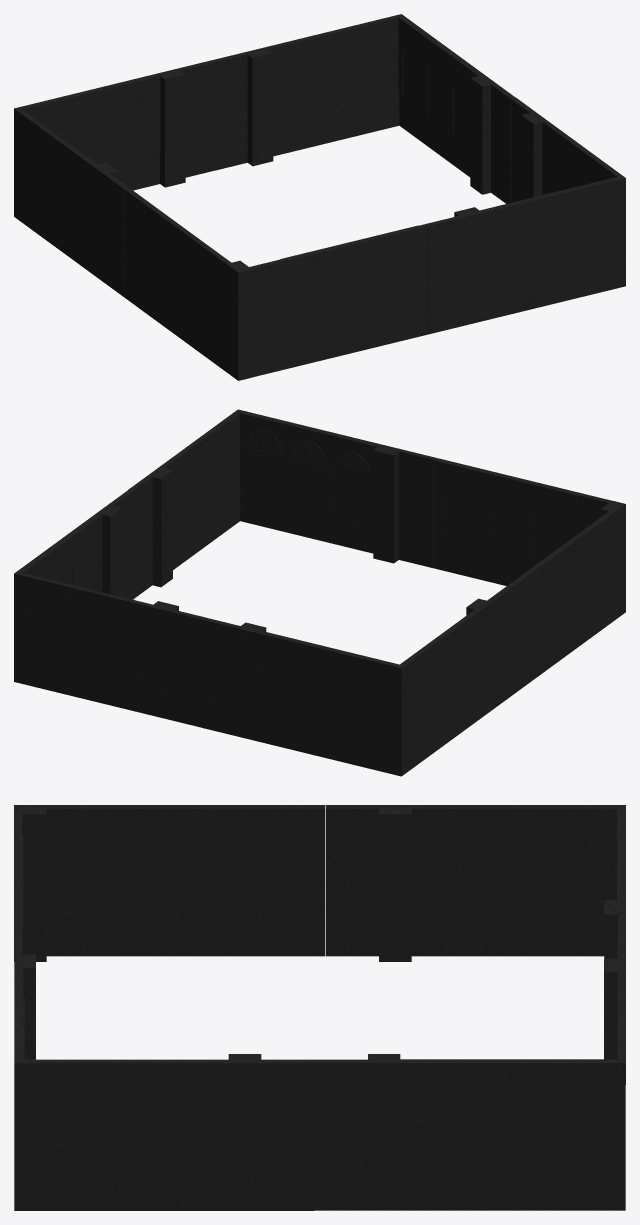
Rendered from Walls.obj.
The picture shows the model from 3 angles, top to bottom: view 1: azimuth 30°, elevation 25°; view 2: azimuth 150°, elevation 25°; view 3: azimuth 270°, elevation 25°; orthographic projection. The views are drawn at different scales.
Visible parts, largest first — view 1: Walls; view 2: Walls; view 3: Walls.
Boxes of the visible parts, left/top/right/bottom form: Walls: left=14, top=14, right=625, bottom=380; Walls: left=14, top=409, right=625, bottom=776; Walls: left=14, top=805, right=625, bottom=1210.
Size of the model in its own units: 1124 by 300 by 1127.
1 material, 1 textured.
